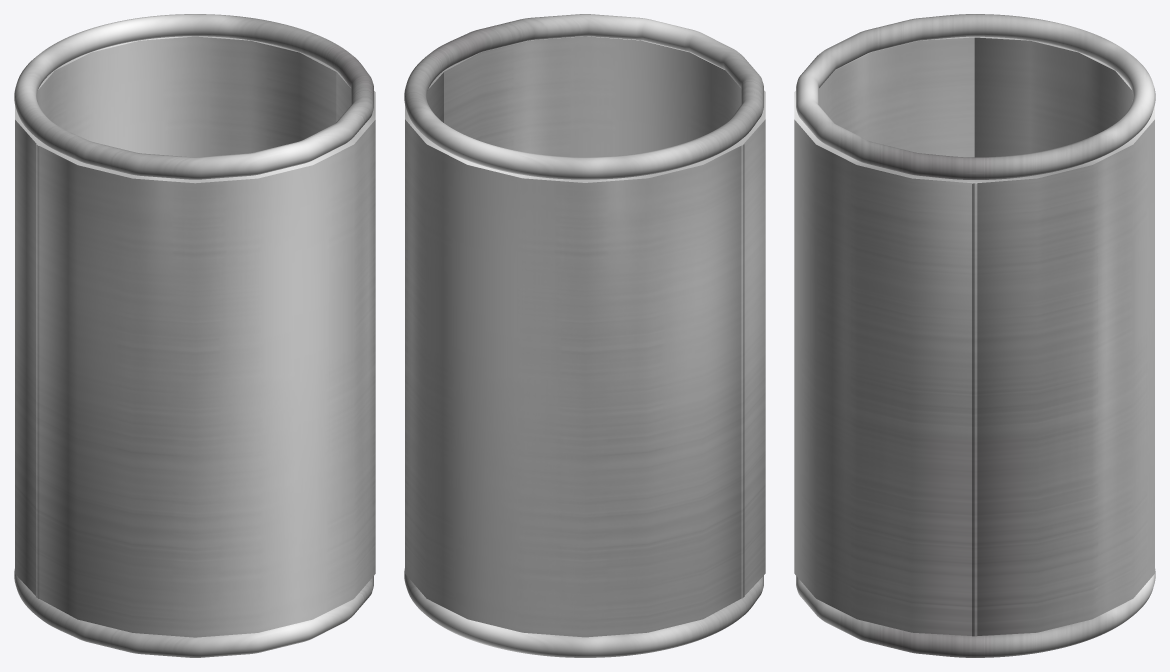
File: 38 trash can.fbx
3 renders of one model, left to right at view 1: azimuth 30°, elevation 25°; view 2: azimuth 150°, elevation 25°; view 3: azimuth 270°, elevation 25°, orthographic.
Parts seen in each view (by area): view 1: Object005, Shape004, Shape003; view 2: Object005, Shape004, Shape003; view 3: Object005, Shape004, Shape003.
Part boxes in pixels (box(x1,y1,x2,y2)): Object005: box(15, 36, 375, 637); Shape004: box(14, 14, 373, 179); Shape003: box(14, 569, 373, 657); Object005: box(405, 36, 765, 637); Shape004: box(404, 14, 763, 179); Shape003: box(404, 568, 763, 657); Object005: box(794, 36, 1154, 636); Shape004: box(796, 14, 1155, 179); Shape003: box(796, 569, 1155, 657).
Size of the model in its own units: 42.13 by 63.51 by 41.74.
Materials: 2 (2 with a texture image).
